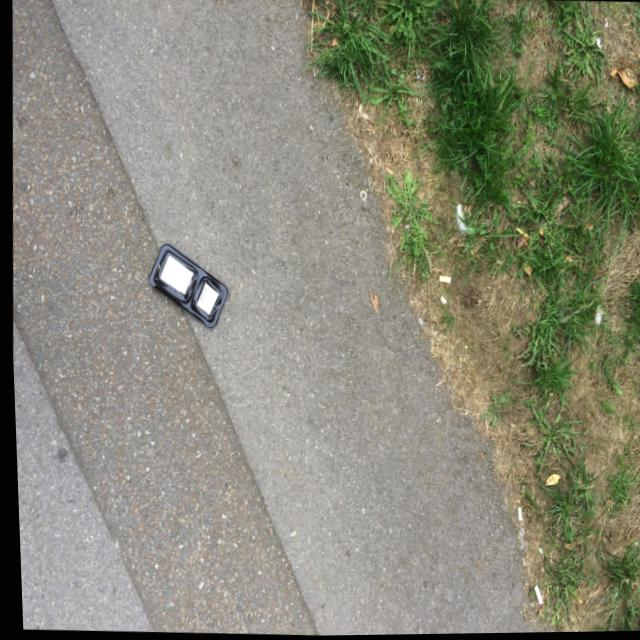Plastic: (141, 239, 229, 335)
